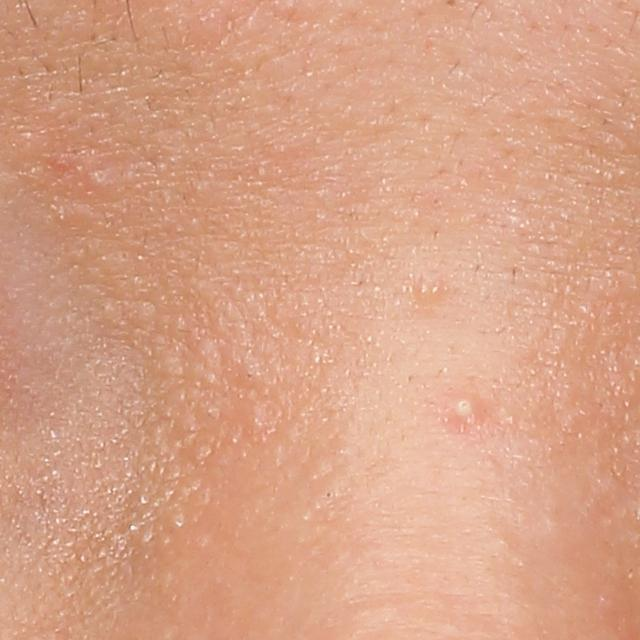comedo: (81, 169, 105, 193)
